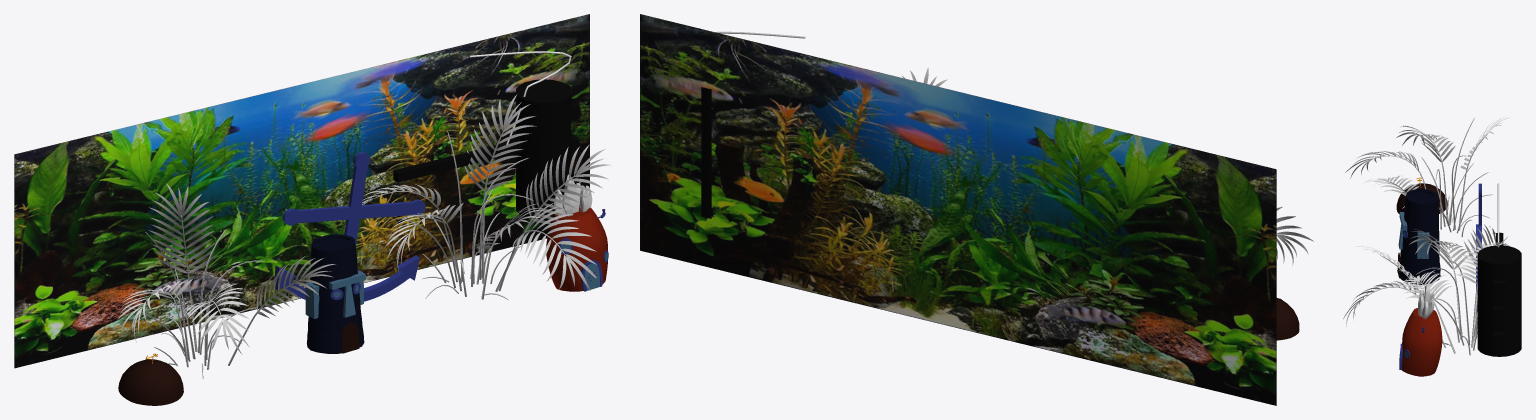
Rendered from Akvariumset.FBX.
3 renders of one model, left to right at view 1: azimuth 30°, elevation 25°; view 2: azimuth 150°, elevation 25°; view 3: azimuth 270°, elevation 25°, orthographic. The views are drawn at different scales.
Parts seen in each view (by area): view 1: Plane001, Blat5, Blat006, Cylinder001, 4569821, 963,, as, s001, asdx, 2eres; view 2: Plane001, Cylinder001, s001, Blat006; view 3: Cylinder001, Blat5, Blat006, 963,, as, asdx, s001, 2eres, 4569821, Line001.
Part boxes in pixels (bbox=[...]): Plane001: bbox=[14, 14, 589, 368]; Blat5: bbox=[341, 95, 610, 299]; Blat006: bbox=[117, 183, 335, 378]; Cylinder001: bbox=[393, 79, 579, 220]; 4569821: bbox=[274, 151, 425, 301]; 963,: bbox=[307, 234, 364, 353]; as: bbox=[546, 205, 607, 291]; s001: bbox=[118, 359, 183, 405]; asdx: bbox=[305, 270, 365, 318]; 2eres: bbox=[554, 174, 592, 216]; Plane001: bbox=[640, 14, 1276, 405]; Cylinder001: bbox=[701, 87, 711, 218]; s001: bbox=[1276, 298, 1299, 340]; Blat006: bbox=[1276, 206, 1313, 266]; Cylinder001: bbox=[1477, 232, 1521, 356]; Blat5: bbox=[1343, 224, 1509, 355]; Blat006: bbox=[1345, 116, 1509, 237]; 963,: bbox=[1399, 188, 1440, 284]; as: bbox=[1402, 308, 1442, 376]; asdx: bbox=[1398, 212, 1429, 258]; s001: bbox=[1396, 183, 1447, 213]; 2eres: bbox=[1418, 284, 1434, 318]; 4569821: bbox=[1476, 183, 1481, 312]; Line001: bbox=[1497, 183, 1499, 247].
Size of the model in its own units: 1957 by 701 by 663.
